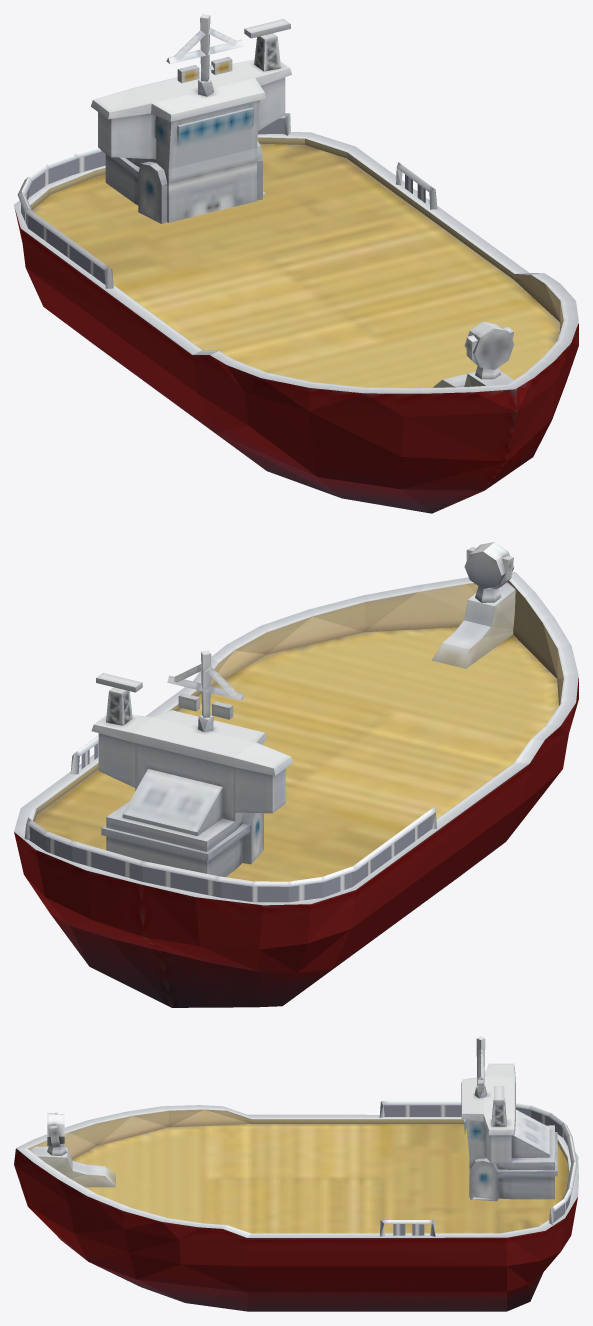
3 renders of one model, top to bottom at view 1: azimuth 30°, elevation 25°; view 2: azimuth 150°, elevation 25°; view 3: azimuth 270°, elevation 25°, orthographic. The views are drawn at different scales.
Visible parts, largest first — view 1: 货船; view 2: 货船; view 3: 货船.
Boxes of the visible parts, left/top/right/bottom form: 货船: left=14, top=14, right=578, bottom=513; 货船: left=14, top=542, right=578, bottom=1007; 货船: left=14, top=1036, right=578, bottom=1311.
Bounding box in the file's own units: 28.12 × 27.12 × 54.4.
Materials: 1 (1 with a texture image).
